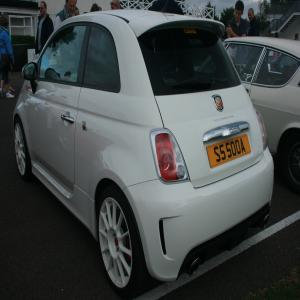Vehicle-registration-plate: (207, 129, 256, 174)
